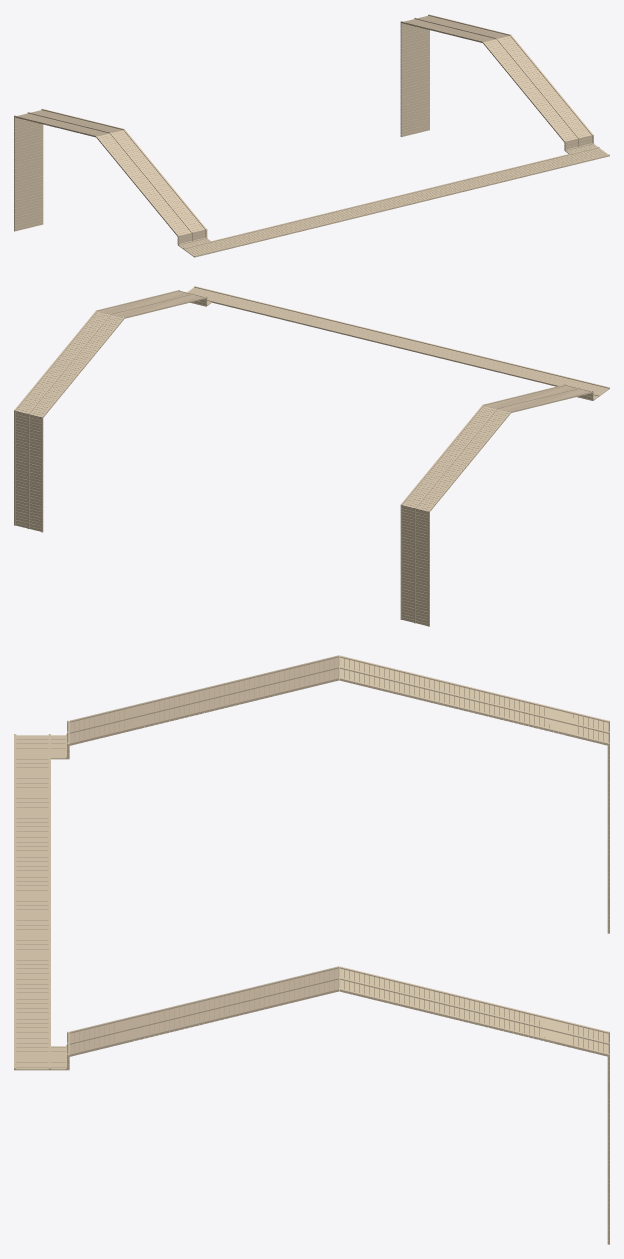
File: Budesti3.glb
3 renders of one model, top to bottom at view 1: azimuth 30°, elevation 25°; view 2: azimuth 150°, elevation 25°; view 3: azimuth 270°, elevation 25°, orthographic. The views are drawn at different scales.
Parts seen in each view (by area): view 1: Paint - Golden Beige; view 2: Paint - Golden Beige; view 3: Paint - Golden Beige.
Boxes of the visible parts, x1,y1,x2,y2 form: Paint - Golden Beige: (14, 14, 609, 257); Paint - Golden Beige: (14, 286, 609, 626); Paint - Golden Beige: (14, 655, 609, 1244).
Bounding box in the file's own units: 13 × 4.64 × 9.8.
